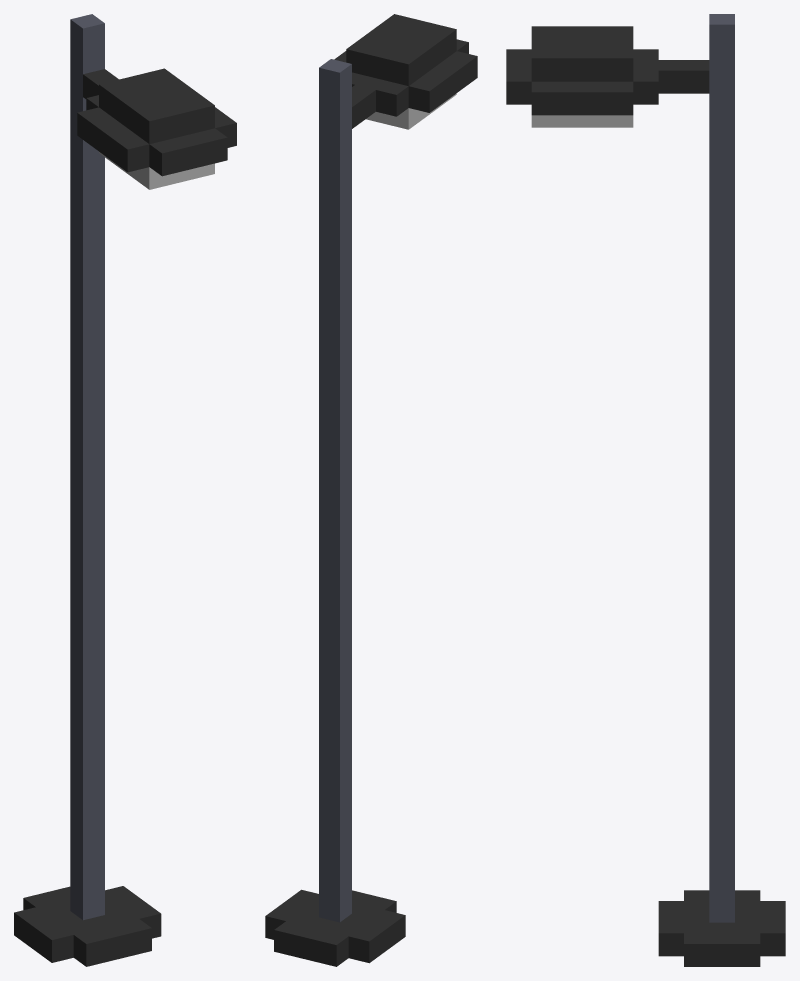
The model's file is faro.obj.
The picture shows the model from 3 angles, left to right: view 1: azimuth 30°, elevation 25°; view 2: azimuth 150°, elevation 25°; view 3: azimuth 270°, elevation 25°; orthographic projection. The views are drawn at different scales.
Visible parts, largest first — view 1: ilum; view 2: ilum; view 3: ilum.
Part boxes in pixels (x1=…): ilum: x1=14, y1=14, x2=236, y2=966; ilum: x1=265, y1=14, x2=477, y2=966; ilum: x1=506, y1=14, x2=785, y2=966.
Bounding box in the file's own units: 0.5 × 4 × 1.1.
1 material, 1 textured.
